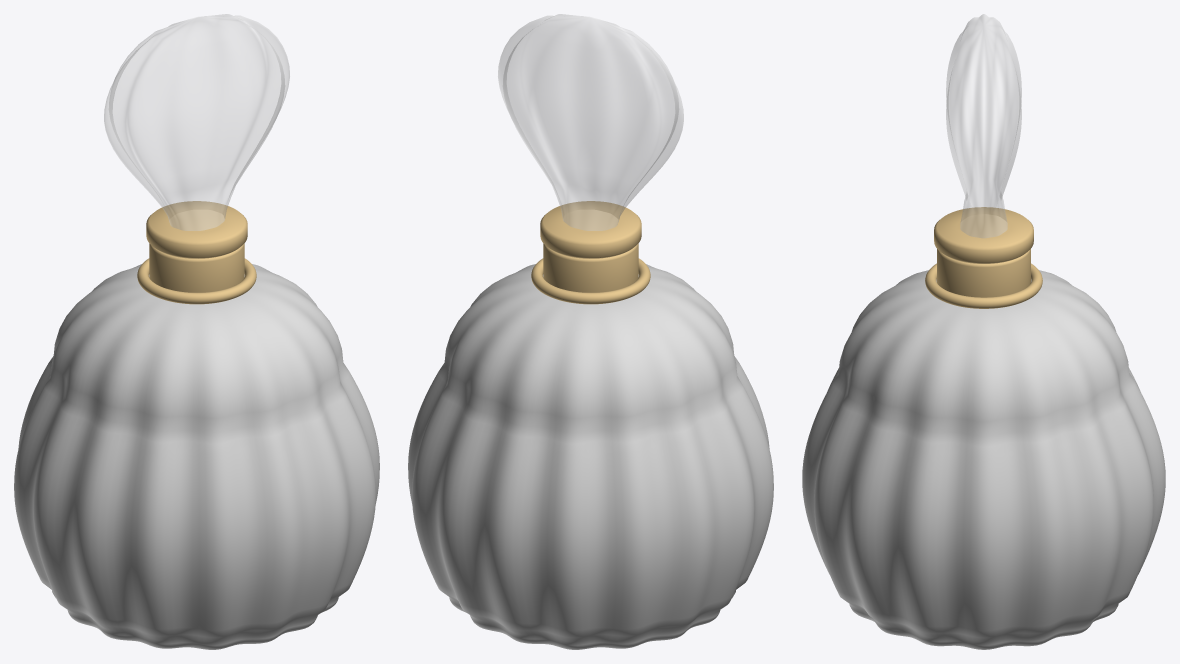
Rendered from ornate-marquise.glb.
3 renders of one model, left to right at view 1: azimuth 30°, elevation 25°; view 2: azimuth 150°, elevation 25°; view 3: azimuth 270°, elevation 25°, orthographic.
Parts seen in each view (by area): view 1: Glass_Body, Stopper, Stopper_Base, Collar, Collar_BeadRing; view 2: Glass_Body, Stopper, Stopper_Base, Collar, Collar_BeadRing; view 3: Glass_Body, Stopper, Stopper_Base, Collar, Collar_BeadRing.
Boxes of the visible parts, left/top/right/bottom form: Glass_Body: left=14, top=264, right=379, bottom=649; Stopper: left=104, top=14, right=289, bottom=230; Stopper_Base: left=146, top=201, right=247, bottom=258; Collar: left=149, top=243, right=244, bottom=292; Collar_BeadRing: left=137, top=258, right=256, bottom=304; Glass_Body: left=408, top=264, right=773, bottom=649; Stopper: left=498, top=14, right=683, bottom=230; Stopper_Base: left=540, top=201, right=641, bottom=258; Collar: left=543, top=243, right=638, bottom=292; Collar_BeadRing: left=531, top=258, right=650, bottom=304; Glass_Body: left=802, top=270, right=1165, bottom=649; Stopper: left=946, top=14, right=1021, bottom=237; Stopper_Base: left=934, top=207, right=1033, bottom=263; Collar: left=937, top=249, right=1030, bottom=297; Collar_BeadRing: left=925, top=263, right=1042, bottom=308.
Size of the model in its own units: 0.0766 by 0.132 by 0.0766.
